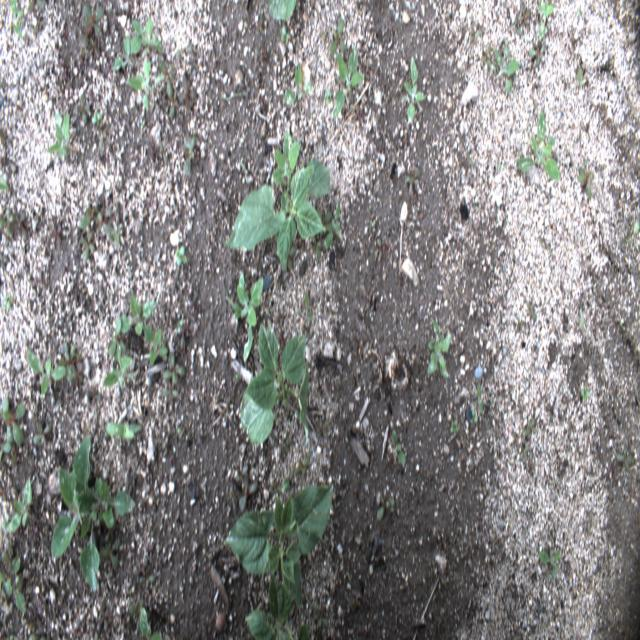crop: (226, 159, 330, 271), (226, 483, 334, 581), (241, 319, 309, 448), (245, 562, 312, 640), (268, 1, 297, 20)
weed: (51, 435, 136, 591), (226, 271, 264, 364), (516, 110, 560, 180), (272, 132, 302, 210), (333, 47, 364, 118), (26, 349, 66, 395), (128, 60, 162, 111), (426, 318, 451, 378), (0, 554, 25, 614), (164, 72, 196, 117), (8, 475, 32, 533), (494, 46, 520, 99), (404, 56, 424, 124), (122, 295, 156, 334), (132, 18, 163, 60), (104, 342, 132, 387), (110, 34, 142, 70), (285, 62, 312, 103), (47, 110, 69, 160), (0, 404, 26, 444), (81, 3, 104, 47), (59, 343, 81, 388), (144, 326, 168, 366), (388, 427, 407, 474), (163, 350, 186, 384), (324, 203, 340, 249), (140, 606, 162, 639), (239, 473, 257, 513), (538, 548, 560, 580), (129, 599, 149, 634), (577, 160, 594, 200), (158, 60, 176, 96), (108, 318, 125, 356), (537, 0, 553, 40), (330, 19, 347, 56), (2, 397, 14, 446), (99, 540, 120, 568), (97, 206, 114, 240), (106, 423, 142, 439), (516, 1, 532, 35), (528, 38, 546, 68), (78, 205, 99, 229), (10, 212, 27, 241), (472, 384, 488, 414), (184, 135, 195, 177), (376, 497, 394, 522), (480, 44, 496, 72), (80, 232, 95, 261), (616, 444, 632, 470), (77, 94, 90, 125), (34, 421, 50, 446), (0, 208, 13, 238), (11, 9, 23, 40), (270, 477, 290, 494), (162, 381, 179, 401), (2, 546, 15, 572), (570, 66, 584, 88), (174, 245, 187, 267), (315, 605, 328, 627), (236, 465, 248, 487), (523, 418, 536, 438), (0, 440, 12, 461), (317, 419, 330, 438), (140, 569, 154, 586), (27, 0, 44, 14), (296, 456, 309, 474), (404, 170, 420, 184), (526, 301, 536, 322), (176, 45, 192, 58), (98, 127, 107, 150), (305, 292, 312, 321), (312, 237, 321, 259), (29, 623, 41, 639), (104, 525, 115, 542), (254, 17, 263, 37), (281, 25, 289, 47), (469, 28, 480, 44), (111, 226, 120, 245), (539, 237, 551, 251), (160, 141, 167, 164), (2, 514, 10, 534), (324, 88, 332, 108), (91, 112, 102, 126), (581, 386, 590, 402), (182, 324, 194, 336), (3, 296, 12, 312), (0, 175, 9, 191), (587, 512, 594, 532), (0, 254, 9, 269), (579, 309, 586, 328), (376, 238, 382, 260), (10, 0, 17, 18), (520, 445, 529, 459), (450, 419, 458, 434), (516, 321, 524, 334), (514, 430, 520, 446), (176, 320, 182, 335), (472, 410, 477, 426), (619, 321, 626, 331), (140, 119, 144, 129)
